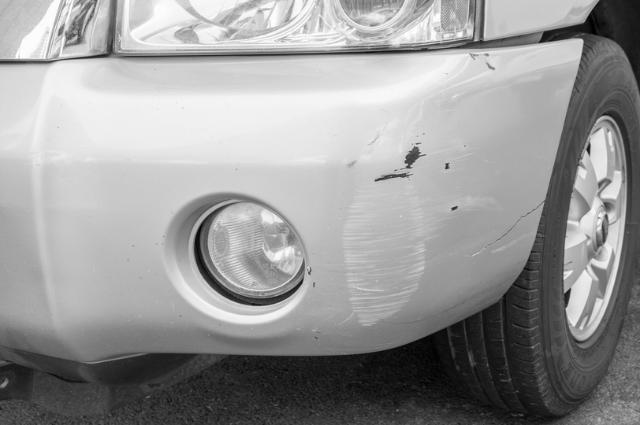Bumper: (294, 67, 554, 335)
